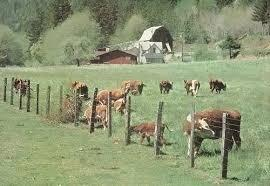cow: (183, 108, 243, 158), (127, 121, 170, 146), (84, 105, 113, 129), (97, 89, 129, 105), (121, 80, 146, 95), (14, 78, 33, 97), (70, 81, 90, 98), (207, 79, 229, 94), (183, 80, 202, 96), (115, 98, 127, 116), (159, 81, 174, 94)
